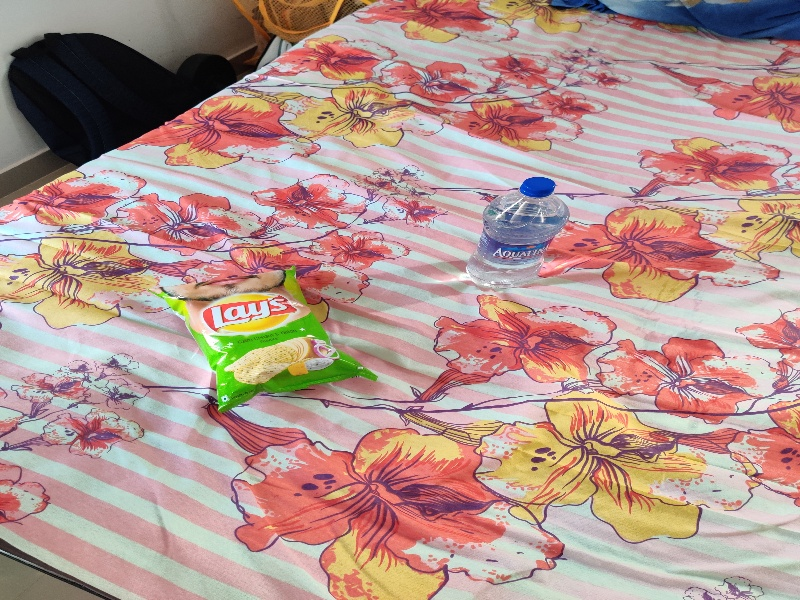bottle: (459, 166, 568, 298)
lays: (151, 261, 387, 408)
